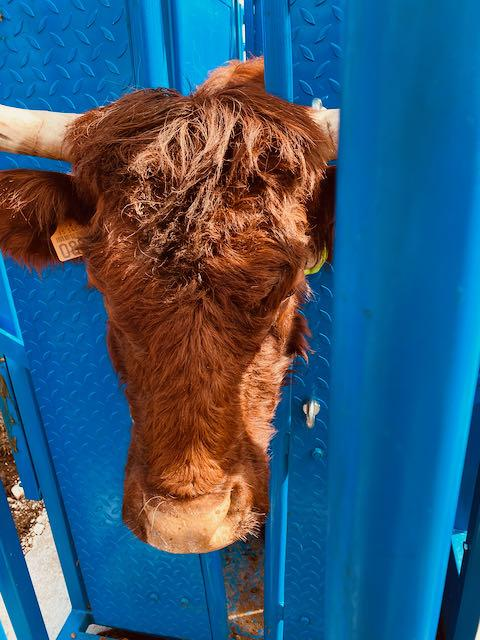muzzles: (107, 482, 281, 560)
